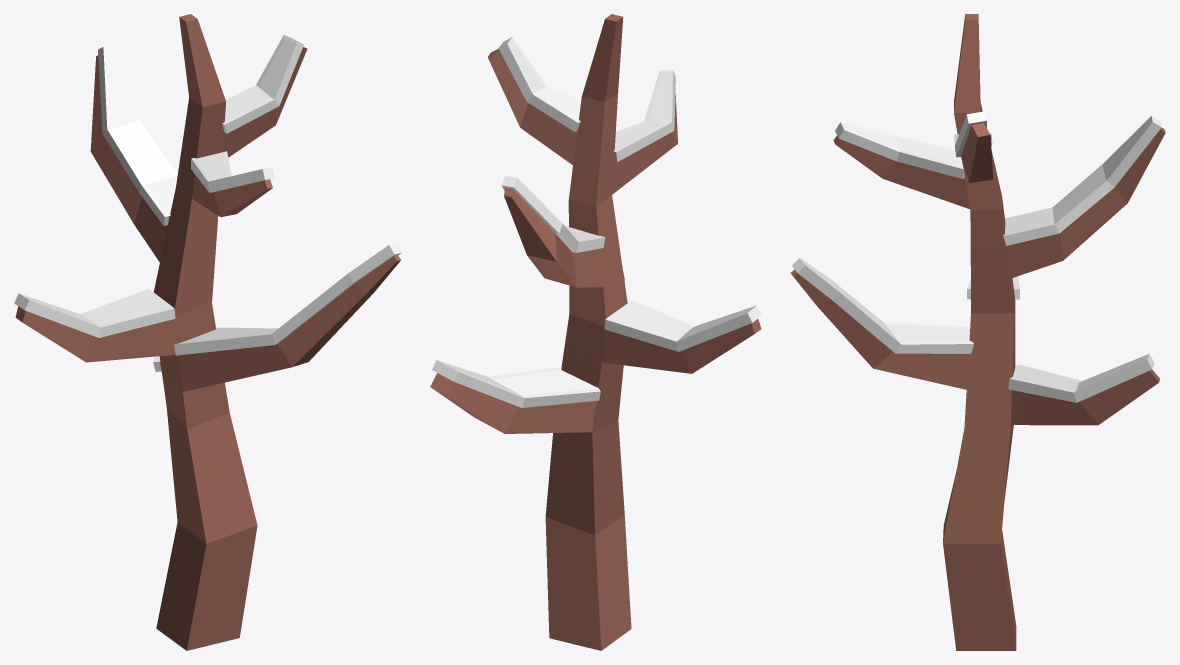
The model's file is tree6.glb.
3 views of the same model, side by side, from view 1: azimuth 30°, elevation 25°; view 2: azimuth 150°, elevation 25°; view 3: azimuth 270°, elevation 25° (orthographic).
Parts seen in each view (by area): view 1: Tree 6_0.001; view 2: Tree 6_0.001; view 3: Tree 6_0.001.
Part boxes in pixels (<box>): Tree 6_0.001: <box>14,14,401,650</box>; Tree 6_0.001: <box>430,14,761,650</box>; Tree 6_0.001: <box>790,14,1165,650</box>.
Size of what is drawn, in the model's own units: 4.08 by 8.61 by 4.78.
1 material, 1 textured.
